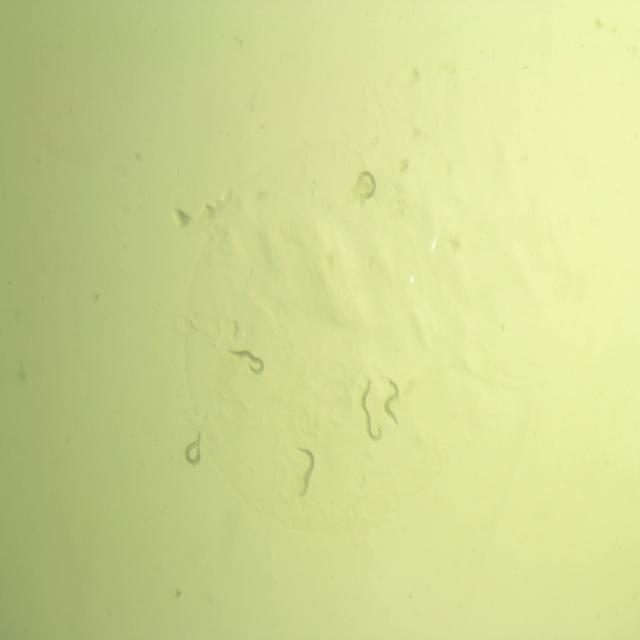worm: (358, 372, 385, 446), (290, 443, 322, 502), (348, 166, 383, 208), (225, 347, 267, 378), (178, 426, 206, 472), (382, 372, 402, 435)
